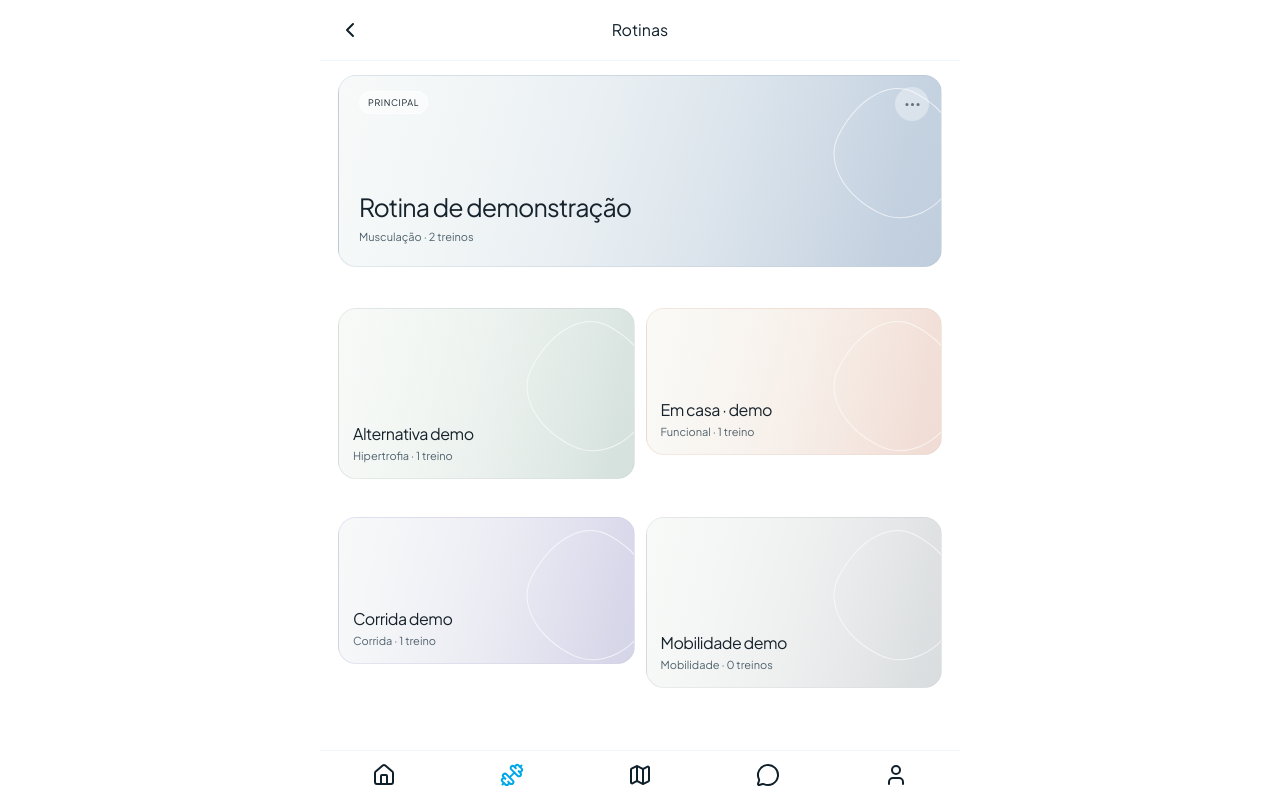
Scenario: real contextual Library › renders an empty shared catalogue without fabricated results or success
Click the button with aria-label "Expandir Rotina de demonstração" at point(640, 171), box [339,76,941,266]
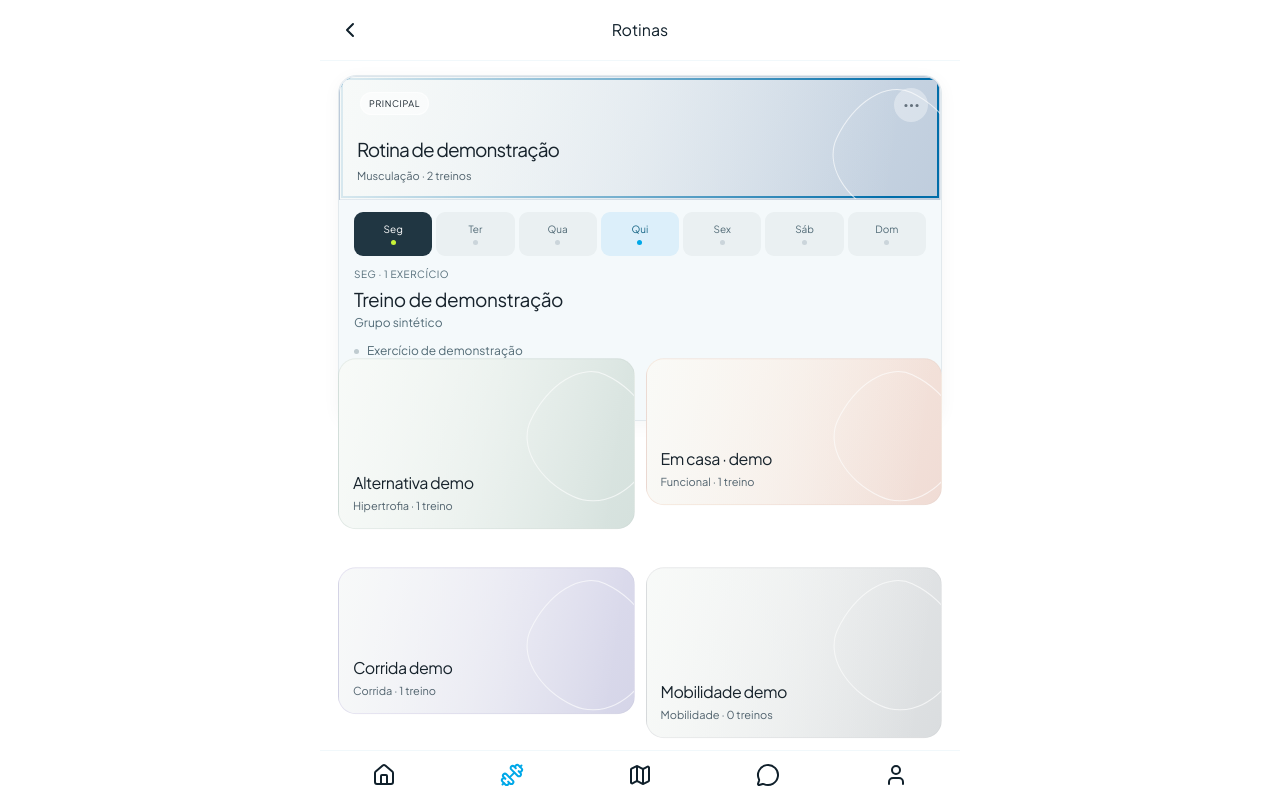
Click the tab with aria-label "Dom, dia livre" at point(887, 234), box [848,212,926,256]
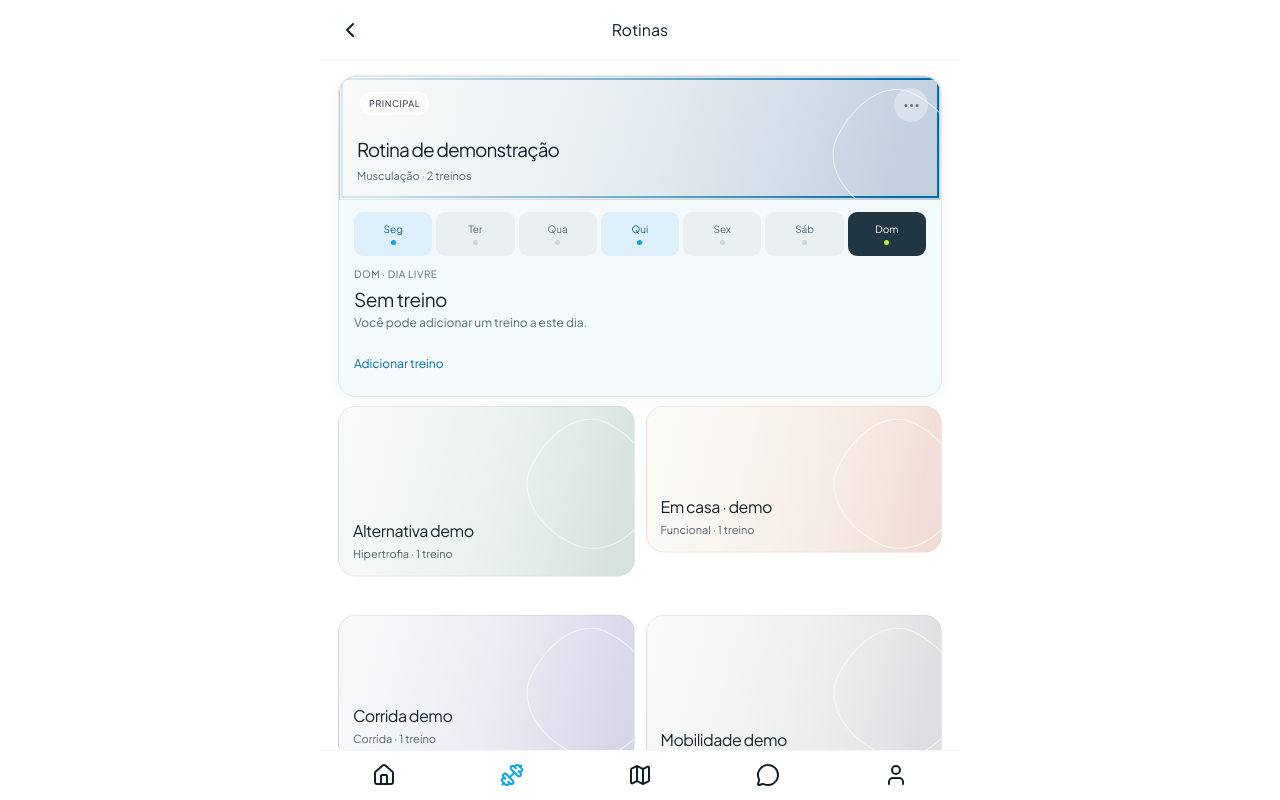
Click the button "Adicionar treino" at point(399, 359), box [354,337,444,381]
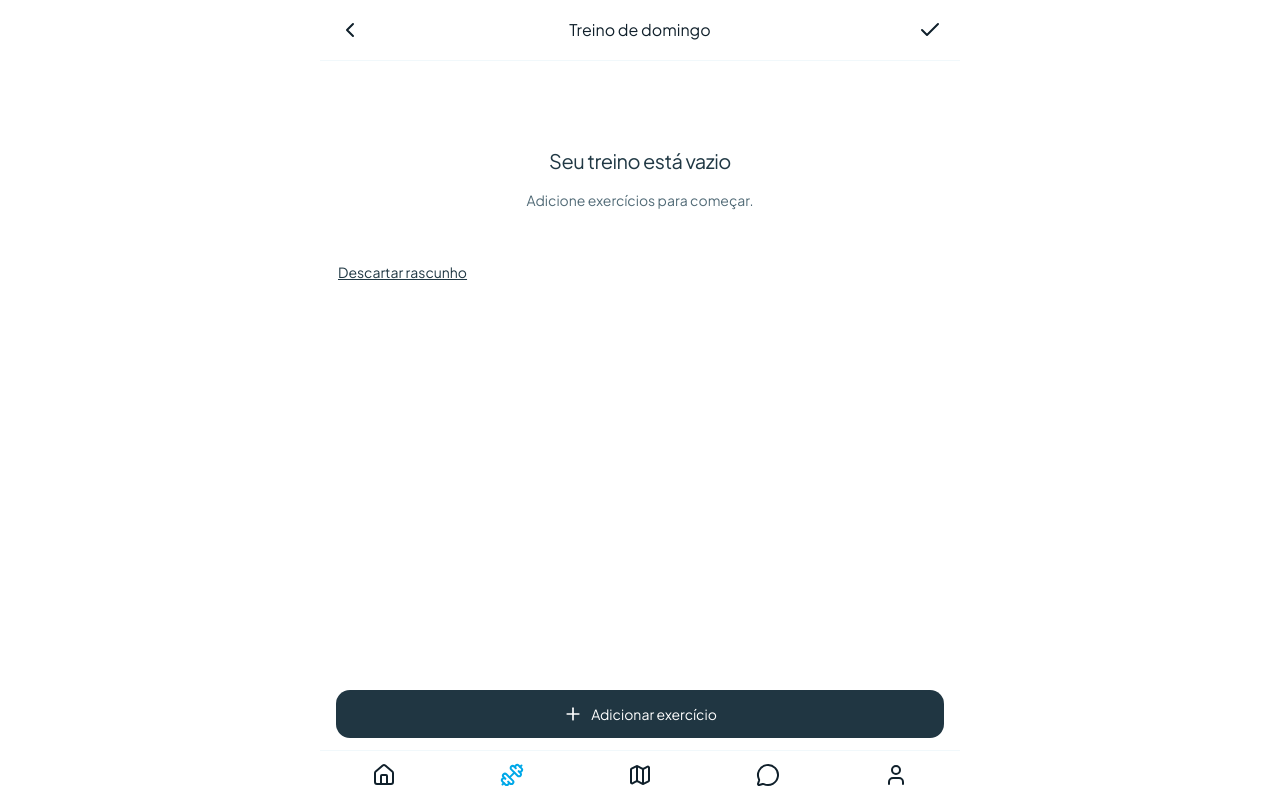
Click the button "Adicionar exercício" at point(640, 714), box [336,690,944,738]
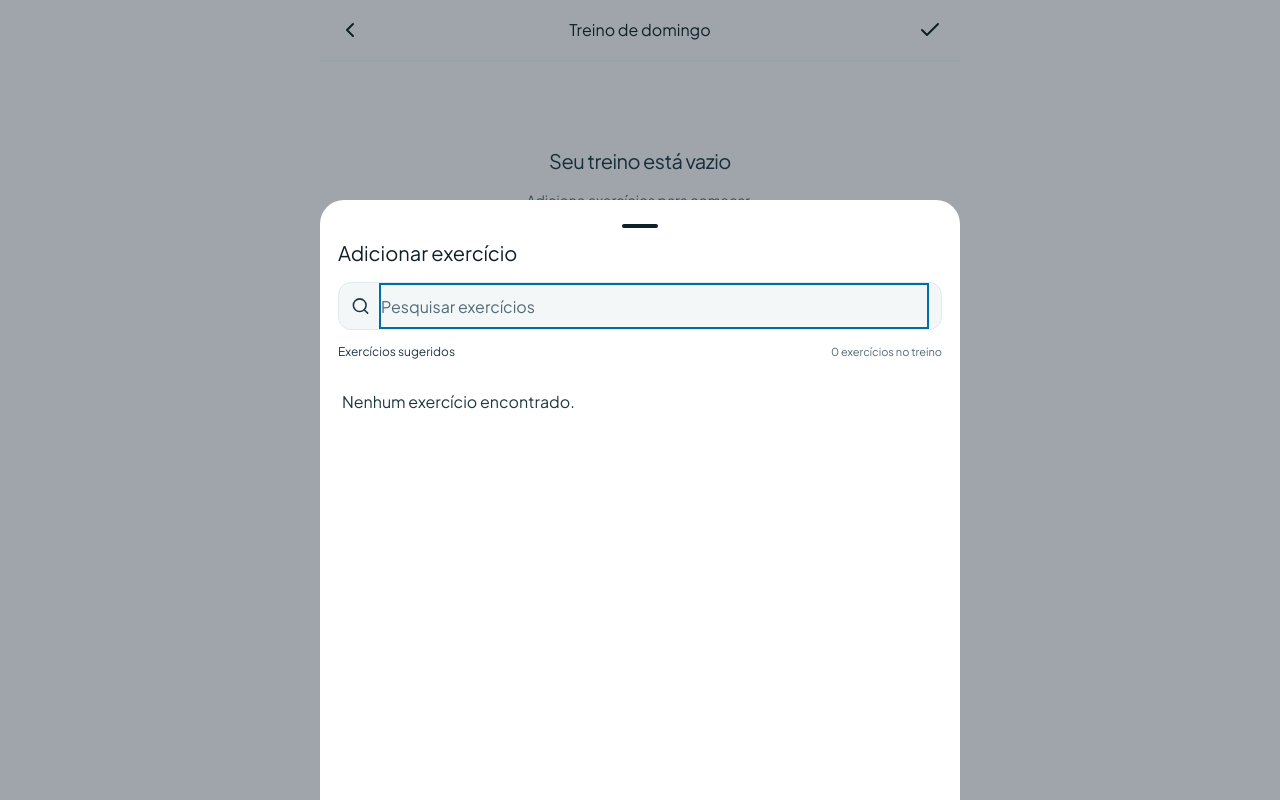
expect the search field is shown: met, box [379,283,929,329]
expect the text "Nenhum exercício encontrado." is shown: met, box [342,391,575,412]
